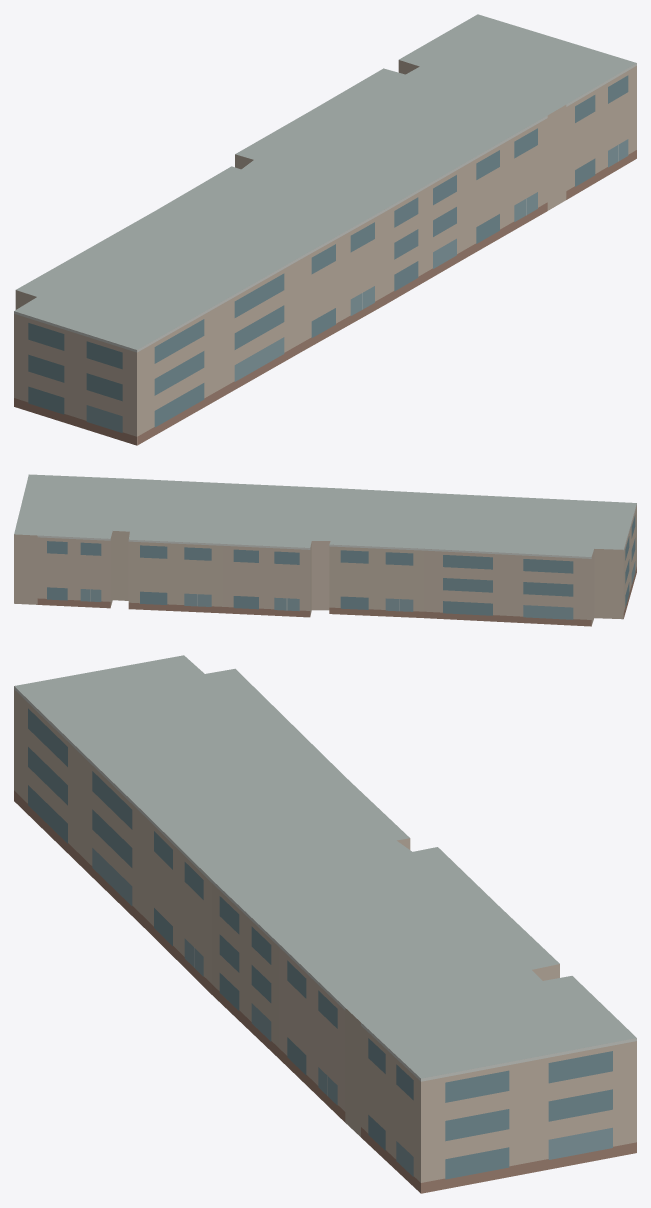
File: survey-upis-32472240.glb
3 renders of one model, top to bottom at view 1: azimuth 30°, elevation 25°; view 2: azimuth 150°, elevation 25°; view 3: azimuth 270°, elevation 25°, orthographic. The views are drawn at different scales.
Visible parts, largest first — view 1: survey-upis-32472240.tmp; view 2: survey-upis-32472240.tmp; view 3: survey-upis-32472240.tmp.
Boxes of the visible parts, <box> form: survey-upis-32472240.tmp: <box>14,14,636,445</box>; survey-upis-32472240.tmp: <box>14,474,636,626</box>; survey-upis-32472240.tmp: <box>14,655,636,1193</box>.
Size of the model in its own units: 72.24 by 9.15 by 44.91.
